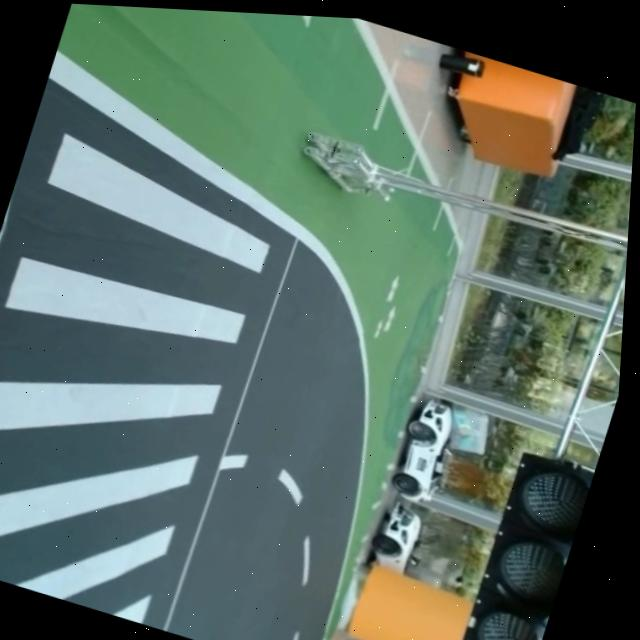traffic-light: (447, 439, 596, 640)
